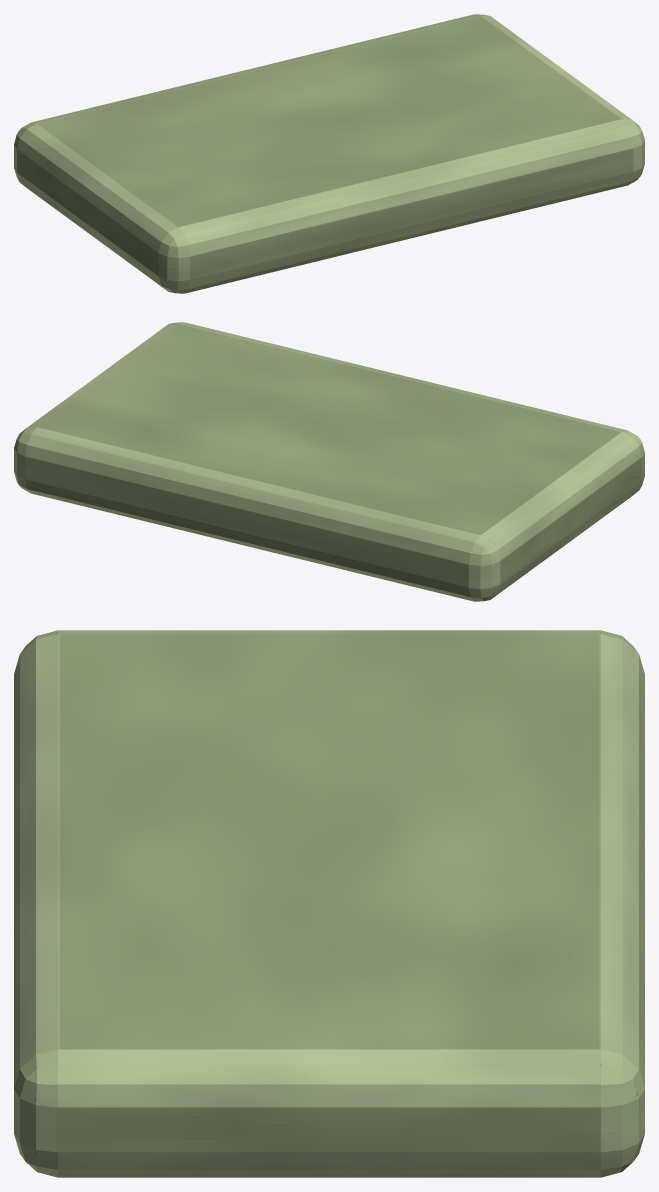
Rendered from 09_Seat_Cushion_2.fbx.
3 renders of one model, top to bottom at view 1: azimuth 30°, elevation 25°; view 2: azimuth 150°, elevation 25°; view 3: azimuth 270°, elevation 25°, orthographic. The views are drawn at different scales.
Visible parts, largest first — view 1: 09_Seat_Cushion_2; view 2: 09_Seat_Cushion_2; view 3: 09_Seat_Cushion_2.
Boxes of the visible parts, x1,y1,x2,y2 form: 09_Seat_Cushion_2: (14,14,644,293); 09_Seat_Cushion_2: (14,322,644,601); 09_Seat_Cushion_2: (14,630,644,1177).
Bounding box in the file's own units: 117 × 15 × 69.
Materials: 1 (1 with a texture image).
